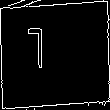L_S: (46, 29, 64, 81)
